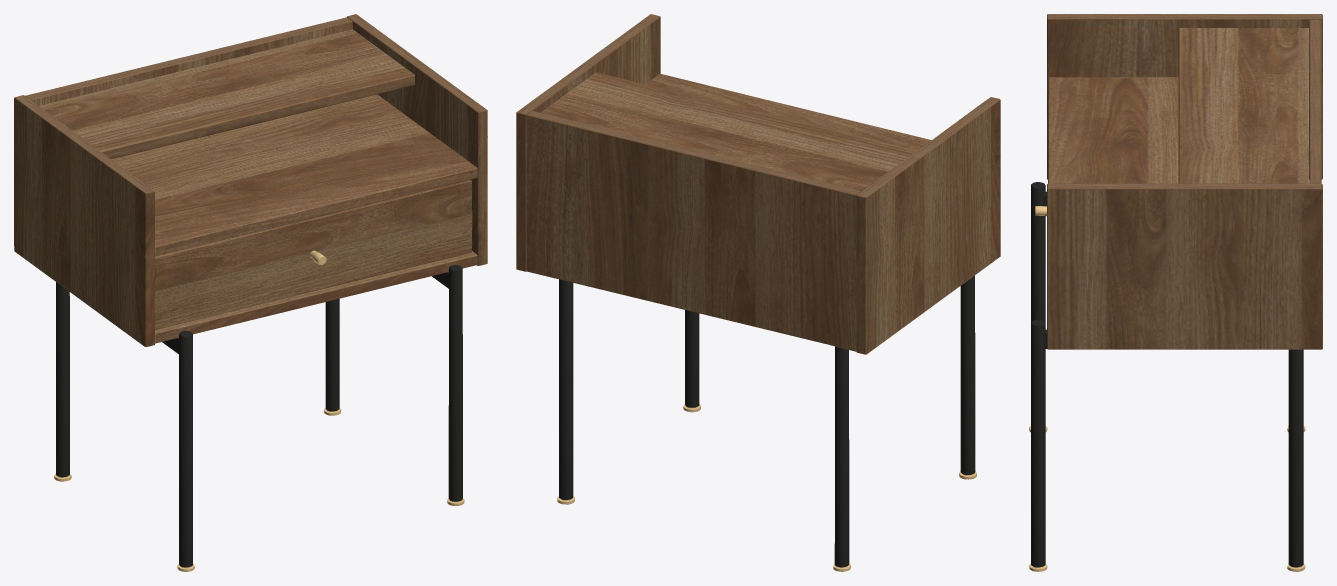
Rendered from radmanso_stolik_nocny_80593597.glb.
The picture shows the model from 3 angles, left to right: view 1: azimuth 30°, elevation 25°; view 2: azimuth 150°, elevation 25°; view 3: azimuth 270°, elevation 25°; orthographic projection. The views are drawn at different scales.
Parts seen in each view (by area): view 1: radmanso_stolik_nocny_80593597; view 2: radmanso_stolik_nocny_80593597; view 3: radmanso_stolik_nocny_80593597.
Boxes of the visible parts, <box> form: radmanso_stolik_nocny_80593597: <box>14,14,487,571</box>; radmanso_stolik_nocny_80593597: <box>516,14,1000,571</box>; radmanso_stolik_nocny_80593597: <box>1029,14,1322,571</box>.
Size of the model in its own units: 0.54 by 0.5754 by 0.3833.
Materials: 2 (2 with a texture image).
